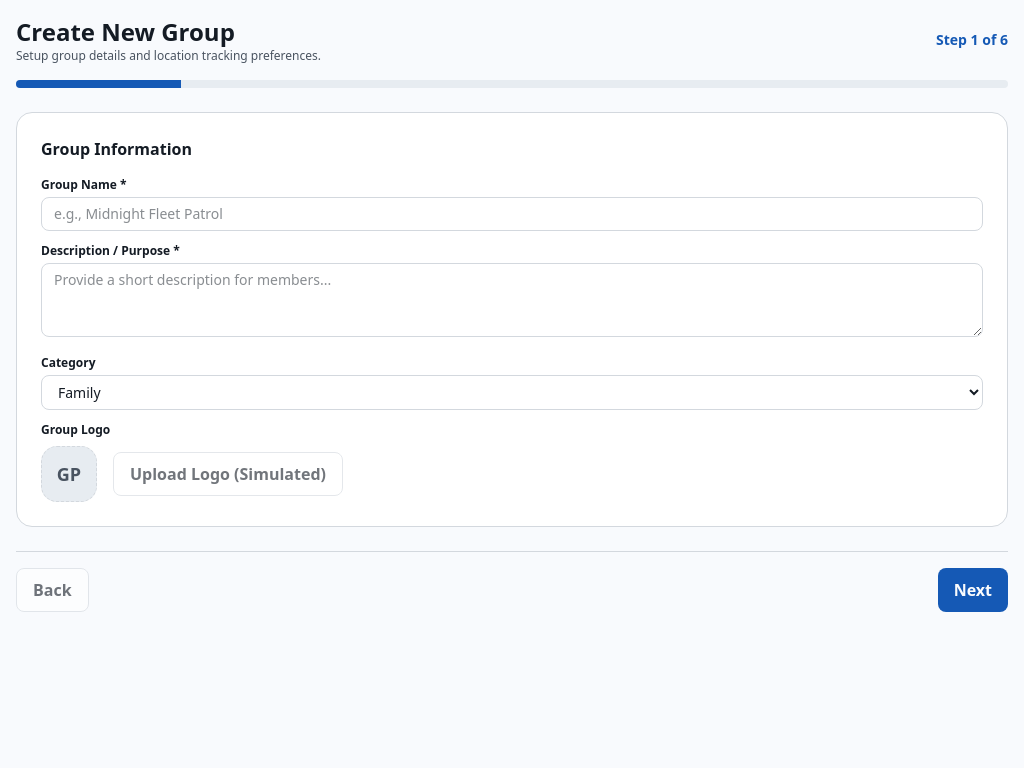
Test: CreateGroupPage Wizard Flow › allows filling Step 1 and navigating to Step 2 (Privacy), then back
Type "Custom Logistics Squad" into the field labelled "Group Name *" at point(512, 214), box 41,197 -> 983,231
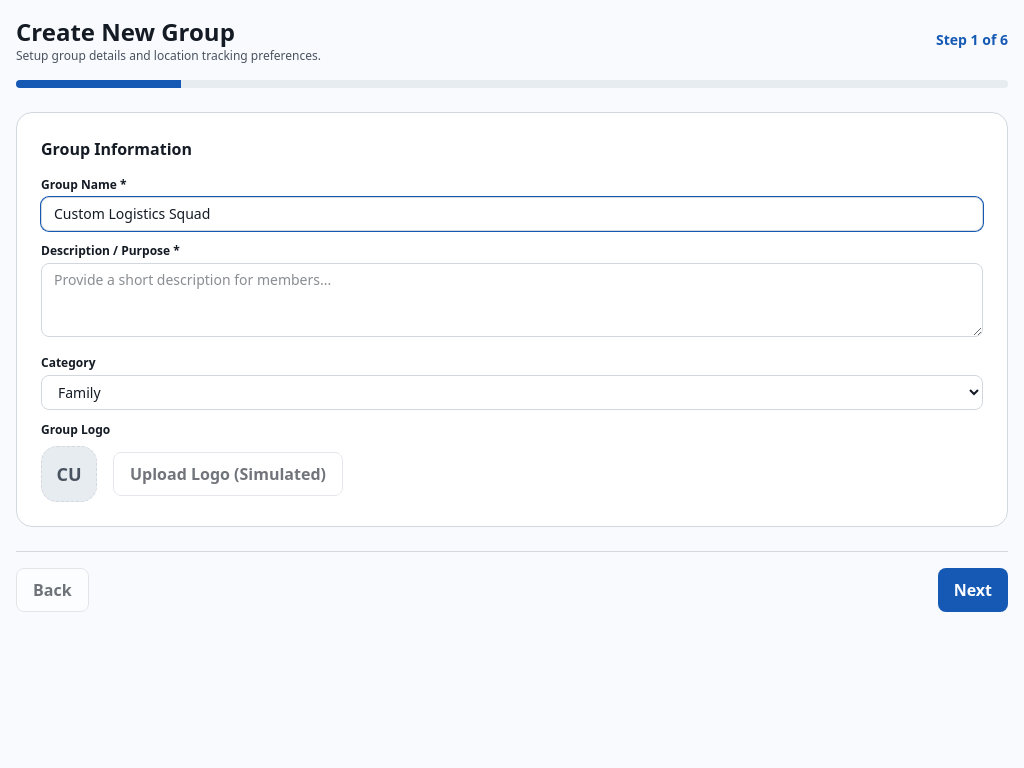
Type "A custom test logistics group purpose details." into the text box labelled "Description / Purpose *" at point(512, 300), box 41,263 -> 983,337
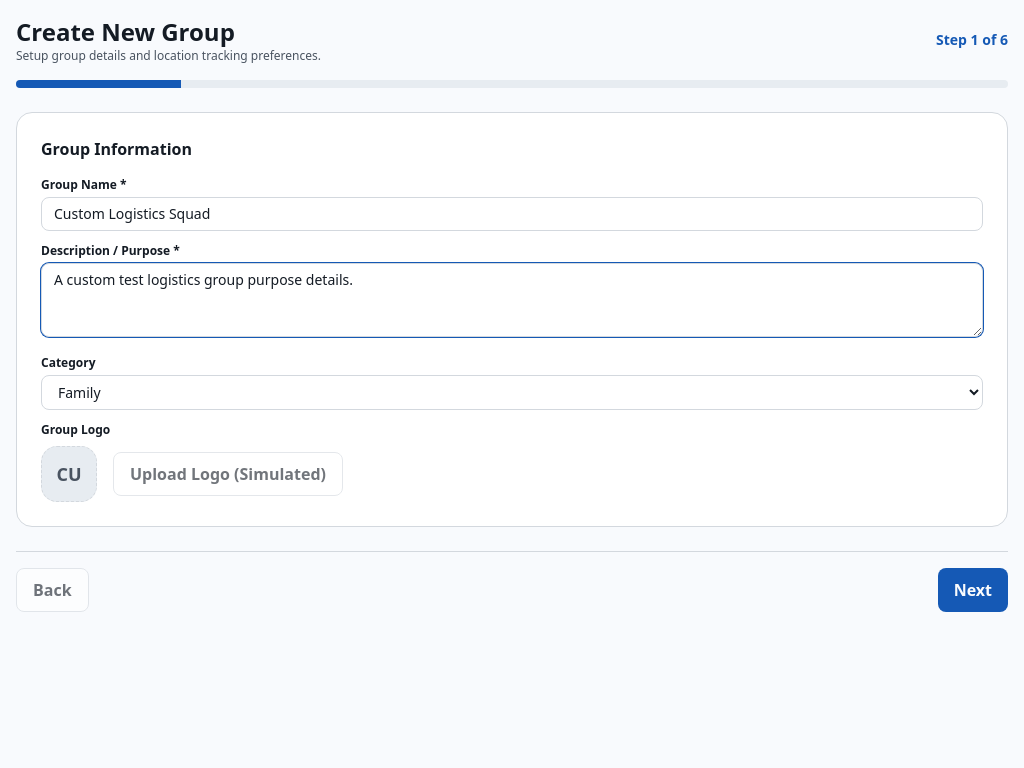
//  Go Next
Click the button "Next" at point(973, 590), box 938,568 -> 1008,612
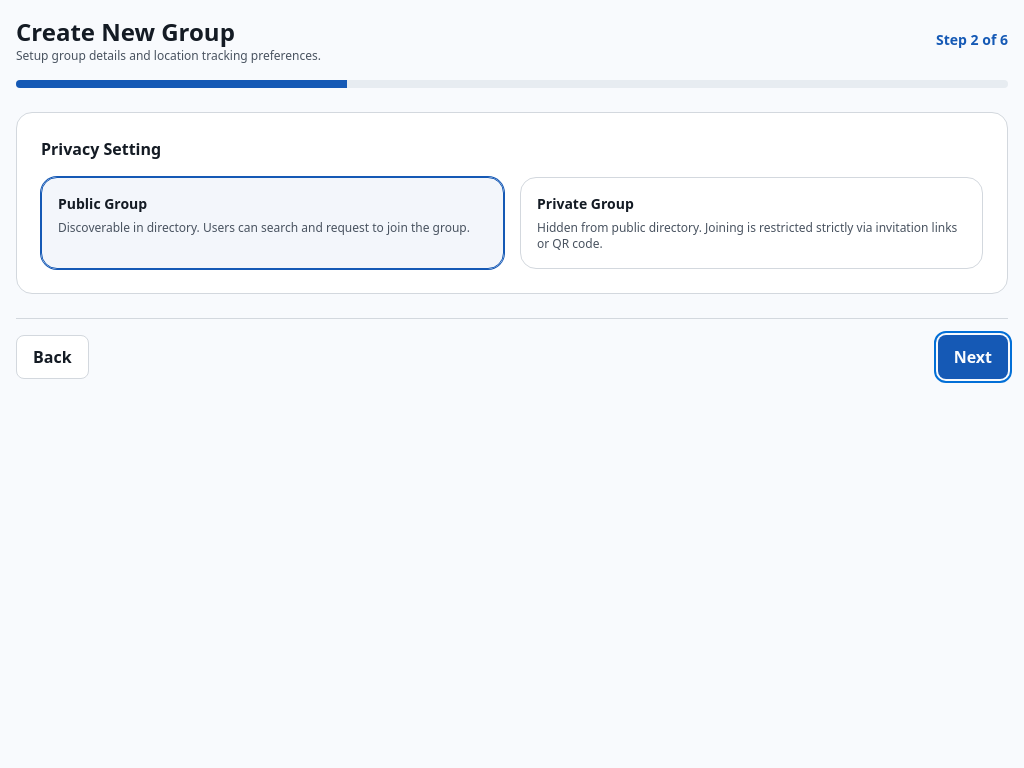
Now the heading "Privacy Setting" is shown, box 41,138 -> 161,160
Now the text "Public Group" is shown, box 58,194 -> 147,214
Now the text "Private Group" is shown, box 537,194 -> 634,214
//  Go Back
Click the button with aria-label "Previous wizard step" at point(52, 357), box 16,335 -> 89,379
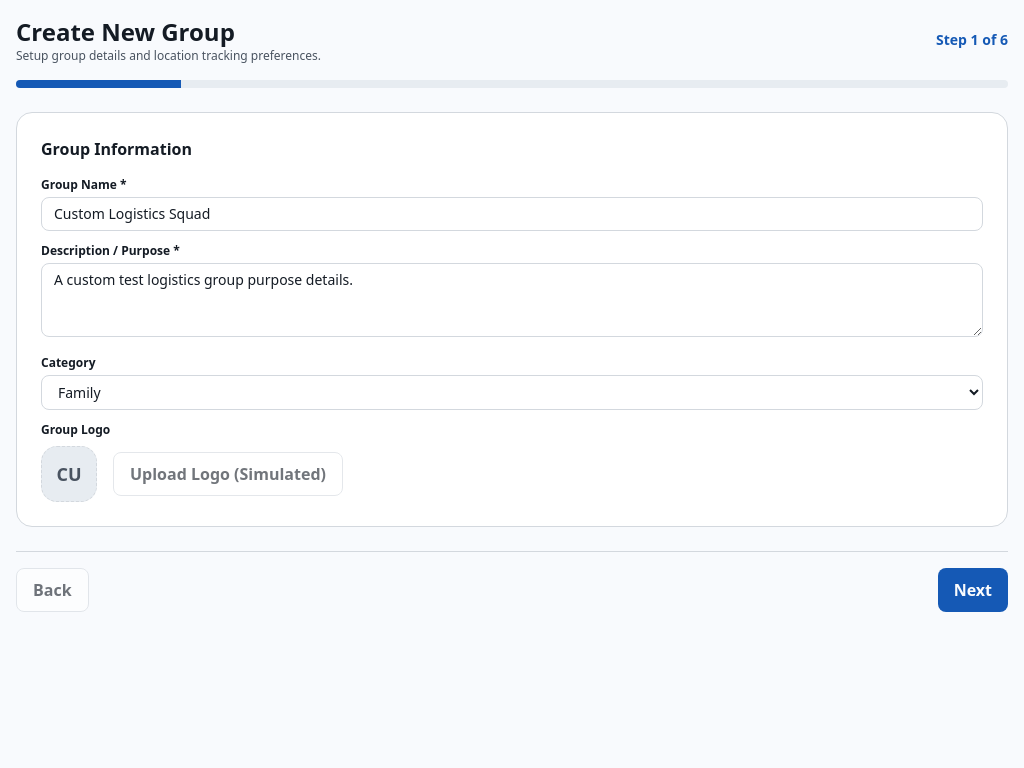
Now the heading "Group Information" is shown, box 41,138 -> 192,160
